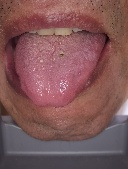tongue: (13, 37, 107, 109)
